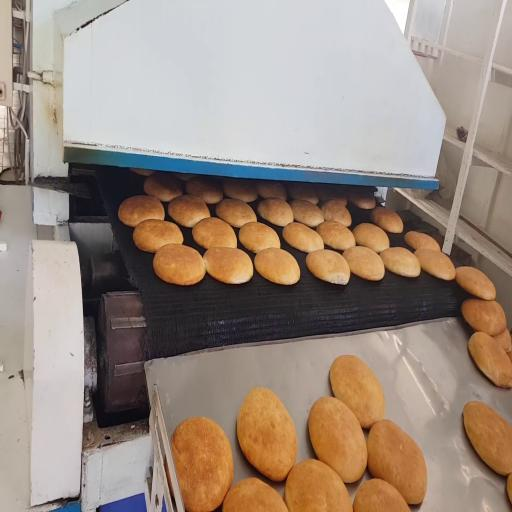bread: (171, 418, 233, 511), (237, 388, 297, 481), (308, 397, 367, 483), (367, 420, 427, 504), (330, 356, 385, 428), (284, 459, 352, 511), (463, 402, 511, 475), (468, 332, 511, 387), (153, 244, 205, 285), (223, 478, 287, 511), (204, 247, 253, 284), (354, 479, 409, 511), (462, 299, 506, 336), (255, 248, 300, 284), (133, 220, 183, 252), (306, 249, 350, 284), (118, 196, 165, 227), (343, 246, 384, 281), (192, 218, 237, 249), (168, 195, 210, 227), (456, 267, 496, 300), (415, 249, 455, 280), (239, 222, 280, 252), (283, 222, 323, 252), (380, 247, 420, 277), (316, 221, 355, 250), (216, 199, 256, 227), (144, 173, 182, 202), (353, 223, 389, 253), (258, 198, 293, 226), (186, 177, 222, 204), (290, 201, 323, 228), (223, 178, 258, 202), (371, 207, 403, 233), (322, 199, 351, 227), (405, 231, 440, 251), (287, 183, 318, 204), (317, 184, 346, 205), (257, 181, 287, 200), (348, 192, 375, 210), (494, 330, 511, 352), (131, 168, 154, 176), (175, 173, 196, 181), (507, 474, 511, 503)
